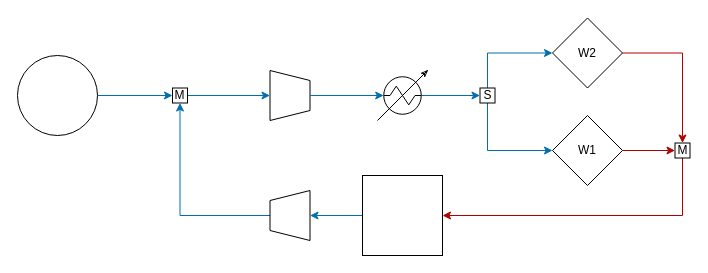
Image size: 708x273. Some labels were removed from this diagram. Each missing label, with the centre of its shape:
"CO2 Source" belongs at pixel 57 95.
"Processing Facility" belongs at pixel 402 215.
